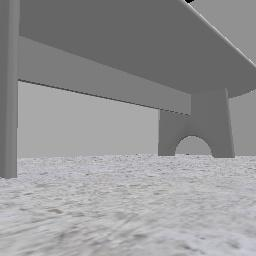masa: (0, 0, 255, 176)
